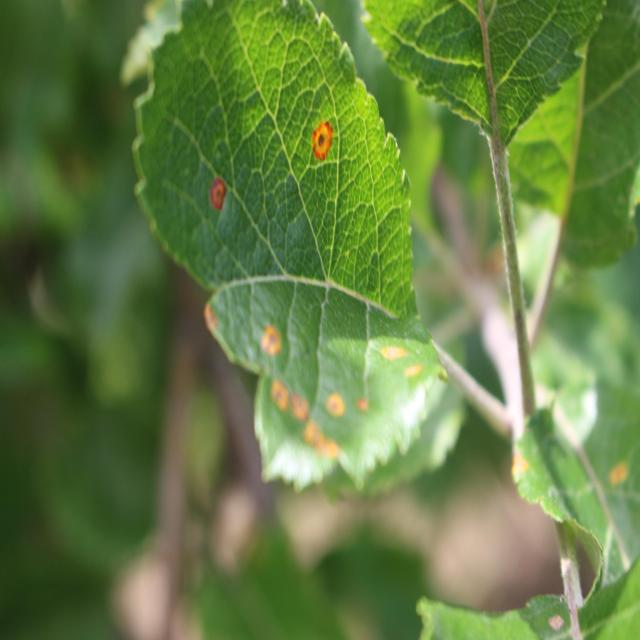Rust: (374, 321, 430, 384), (295, 424, 348, 480), (202, 148, 236, 228), (245, 296, 285, 364), (283, 378, 316, 424), (312, 108, 336, 171), (311, 381, 353, 415), (354, 382, 378, 436), (264, 372, 291, 417)
